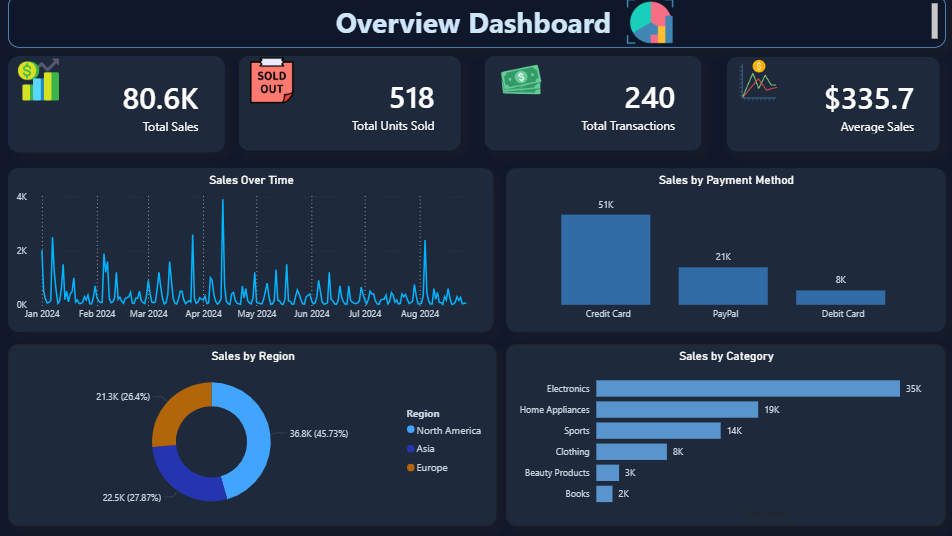

The page's visual inventory and layout, read from the dashboard file:
{"tool":"powerbi","page":{"name":"Overview Dashboard ","canvas":[1280,720],"ordinal":0},"visuals":[{"type":"textbox","box":[17.9,0,1245.5,70.3],"z":0},{"type":"lineChart","title":"Sales Over Time","fields":{"Category":["Online Sales Data.Date"],"Y":["Date.Total Sales"]},"box":[17.9,229.8,645.2,217.7],"z":0,"group":"g1"},{"type":"cardVisual","fields":{"Data":["Date.Total Sales"]},"box":[17.9,80.6,288.1,128.4],"z":1000},{"type":"barChart","title":"Sales by Category","fields":{"Category":["Online Sales Data.Product Category"],"Y":["Date.Total Sales"]},"box":[679.9,464.1,583.8,241.9],"z":1000,"group":"g1"},{"type":"cardVisual","fields":{"Data":["Date.Average Sales"]},"box":[971.6,80.6,285.1,128.4],"z":2000},{"type":"donutChart","title":"Sales by Region","fields":{"Category":["Online Sales Data.Region"],"Y":["Date.Total Sales"]},"box":[17.9,464.1,649.4,241.9],"z":2000,"group":"g1"},{"type":"group","id":"g1","title":"Group 2","box":[17.9,229.8,1245.6,476.2],"z":3000},{"type":"columnChart","title":"Sales by Payment Method","fields":{"Category":["Online Sales Data.Payment Method"],"Y":["Date.Total Sales"]},"box":[679.9,229.8,583.8,217.7],"z":3000,"group":"g1"},{"type":"cardVisual","fields":{"Data":["Date.Total Units Sold"]},"box":[322.8,80,296.6,128.3],"z":4000},{"type":"cardVisual","fields":{"Data":["Date.Total Transactions"]},"box":[649.7,80,289.7,128.3],"z":5000},{"type":"image","box":[653.8,79.8,90.8,64.7],"z":6000},{"type":"image","box":[323.4,82.6,89.5,61.9],"z":7000},{"type":"image","box":[17.9,79.8,81.2,64.7],"z":8000},{"type":"image","box":[971.7,82.6,85.3,61.9],"z":9000},{"type":"image","box":[825.8,0,88.1,70.2],"z":10000}]}

Visuals, with their boxes in screenshot pixels (x1, y1, x2, y2), scaled from the page's 1280x720 canvas onto the 952x536 screenshot:
textbox: {"left": 13, "top": 0, "right": 940, "bottom": 52}
"Sales Over Time" lineChart: {"left": 13, "top": 171, "right": 493, "bottom": 333}
cardVisual - Date.Total Sales: {"left": 13, "top": 60, "right": 228, "bottom": 156}
"Sales by Category" barChart: {"left": 506, "top": 345, "right": 940, "bottom": 526}
cardVisual - Date.Average Sales: {"left": 723, "top": 60, "right": 935, "bottom": 156}
"Sales by Region" donutChart: {"left": 13, "top": 345, "right": 496, "bottom": 526}
"Group 2" group: {"left": 13, "top": 171, "right": 940, "bottom": 526}
"Sales by Payment Method" columnChart: {"left": 506, "top": 171, "right": 940, "bottom": 333}
cardVisual - Date.Total Units Sold: {"left": 240, "top": 60, "right": 461, "bottom": 155}
cardVisual - Date.Total Transactions: {"left": 483, "top": 60, "right": 699, "bottom": 155}
image: {"left": 486, "top": 59, "right": 554, "bottom": 108}
image: {"left": 241, "top": 61, "right": 307, "bottom": 108}
image: {"left": 13, "top": 59, "right": 74, "bottom": 108}
image: {"left": 723, "top": 61, "right": 786, "bottom": 108}
image: {"left": 614, "top": 0, "right": 680, "bottom": 52}
